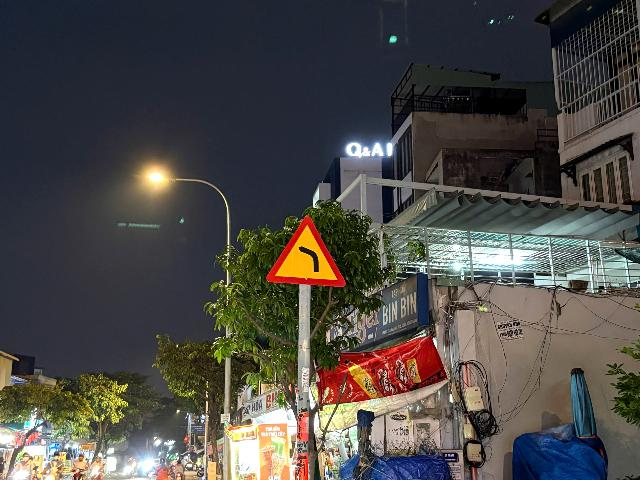cho-ngoat-nguy-hiem-ben-trai: (266, 215, 346, 288)
